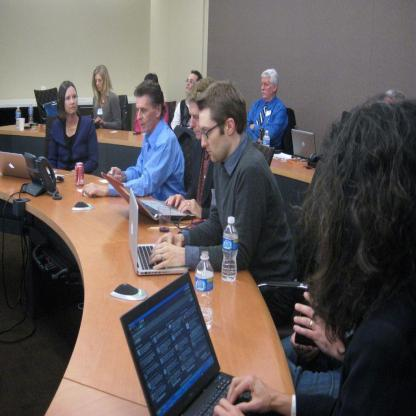board: (155, 242, 298, 410), (129, 188, 188, 275), (101, 173, 195, 220), (0, 152, 57, 180), (195, 252, 212, 330), (221, 217, 237, 280), (292, 129, 317, 160), (76, 160, 83, 186), (16, 104, 21, 128), (263, 130, 270, 147), (29, 101, 33, 125)
